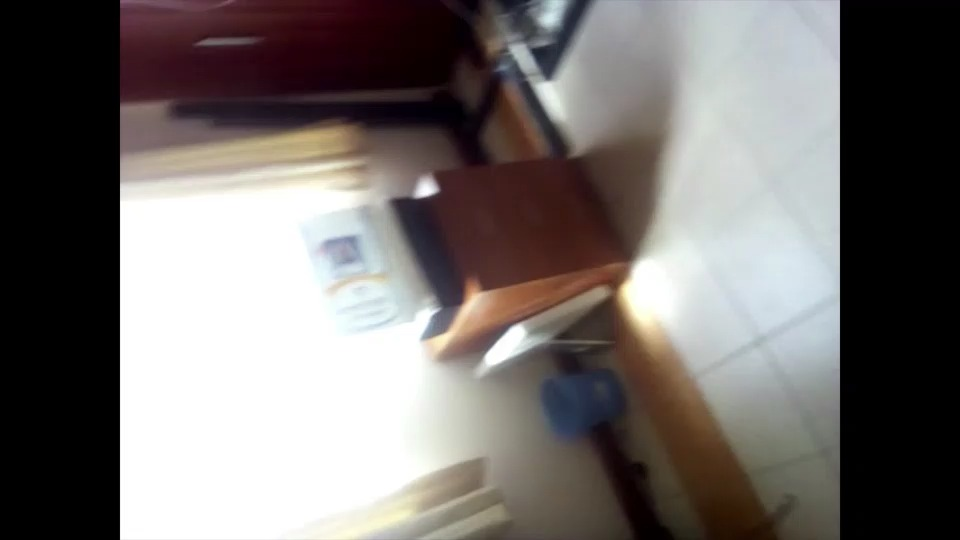wheat_flour_blue_label: (299, 209, 401, 339)
